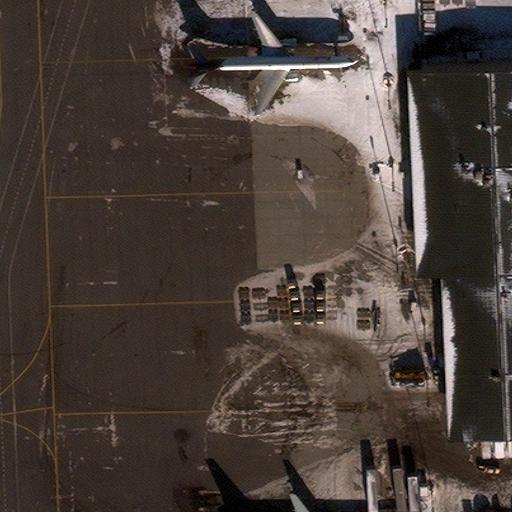Large Civil Transport: (183, 11, 359, 111)
